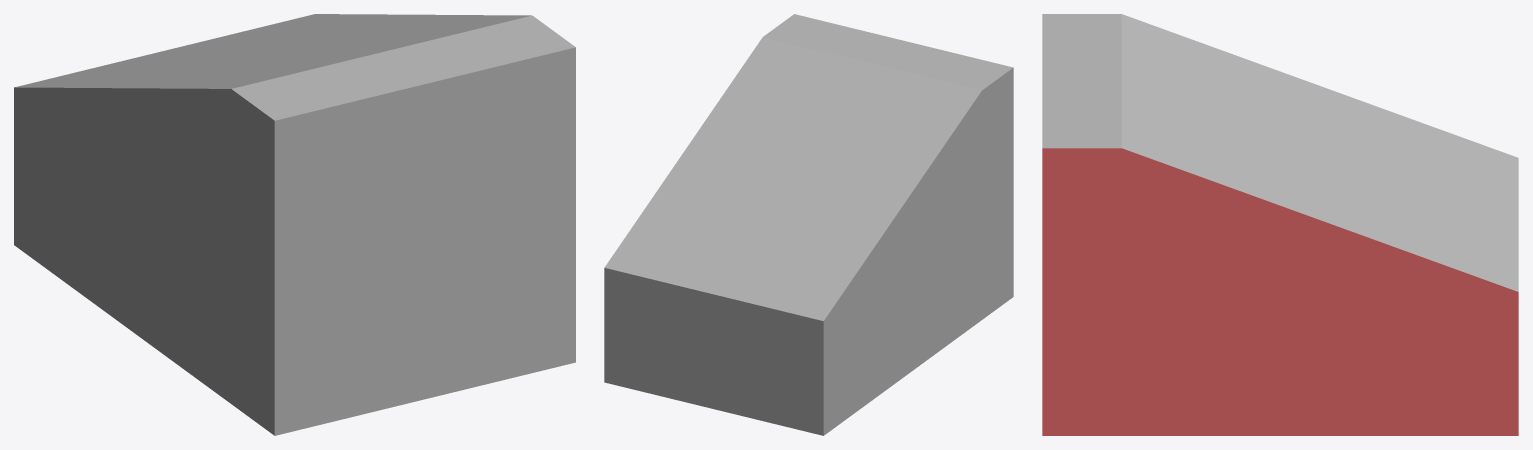
3 views of the same model, side by side, from view 1: azimuth 30°, elevation 25°; view 2: azimuth 150°, elevation 25°; view 3: azimuth 270°, elevation 25° (orthographic). The views are drawn at different scales.
Parts seen in each view (by area): view 1: 7-10.SLDPRT; view 2: 7-10.SLDPRT; view 3: 7-10.SLDPRT.
Boxes of the visible parts, x1,y1,x2,y2 form: 7-10.SLDPRT: (14, 14, 575, 435); 7-10.SLDPRT: (604, 14, 1013, 435); 7-10.SLDPRT: (1042, 14, 1518, 435).
Size of the model in its own units: 0.04 by 0.04 by 0.06.
